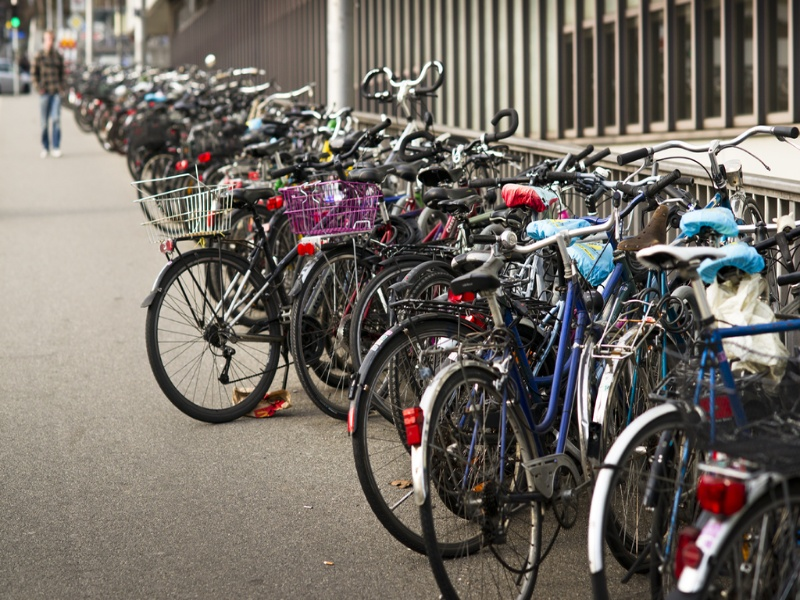bicycle: (375, 112, 800, 597), (377, 251, 686, 600), (147, 177, 289, 419)
